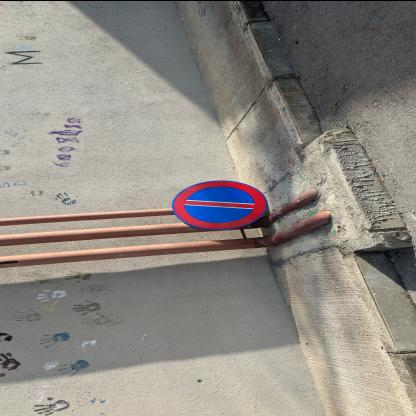No Waiting: (172, 181, 268, 231)
